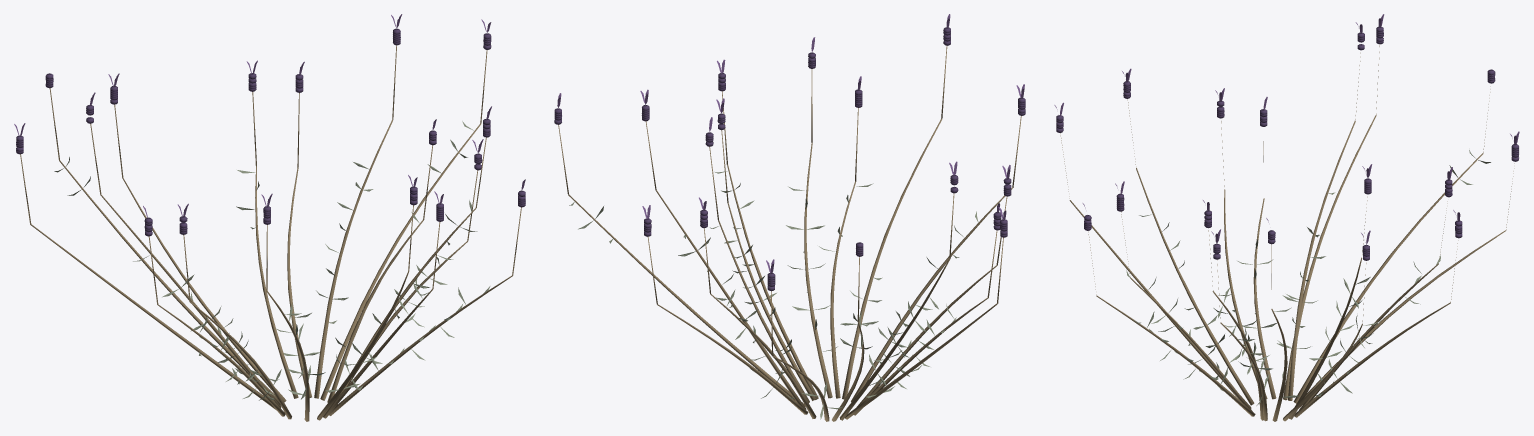
Rendered from Lavande_2_Niveau1.fbx.
The picture shows the model from 3 angles, left to right: view 1: azimuth 30°, elevation 25°; view 2: azimuth 150°, elevation 25°; view 3: azimuth 270°, elevation 25°; orthographic projection. The views are drawn at different scales.
Visible parts, largest first — view 1: Lavande_2_Niveau1; view 2: Lavande_2_Niveau1; view 3: Lavande_2_Niveau1.
Part boxes in pixels (bbox=[...]): Lavande_2_Niveau1: bbox=[14, 14, 525, 421]; Lavande_2_Niveau1: bbox=[554, 14, 1025, 421]; Lavande_2_Niveau1: bbox=[1054, 14, 1519, 421].
Bounding box in the file's own units: 91.11 × 60.45 × 82.35.
